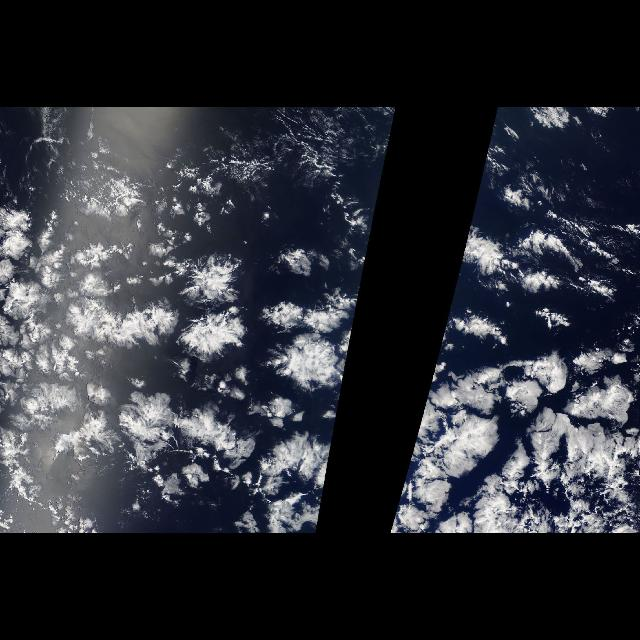Flower: (0, 185, 382, 520), (391, 185, 634, 520)
